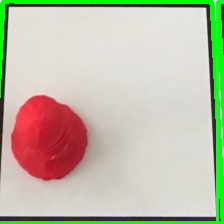Red Pawn: (9, 93, 89, 182)
